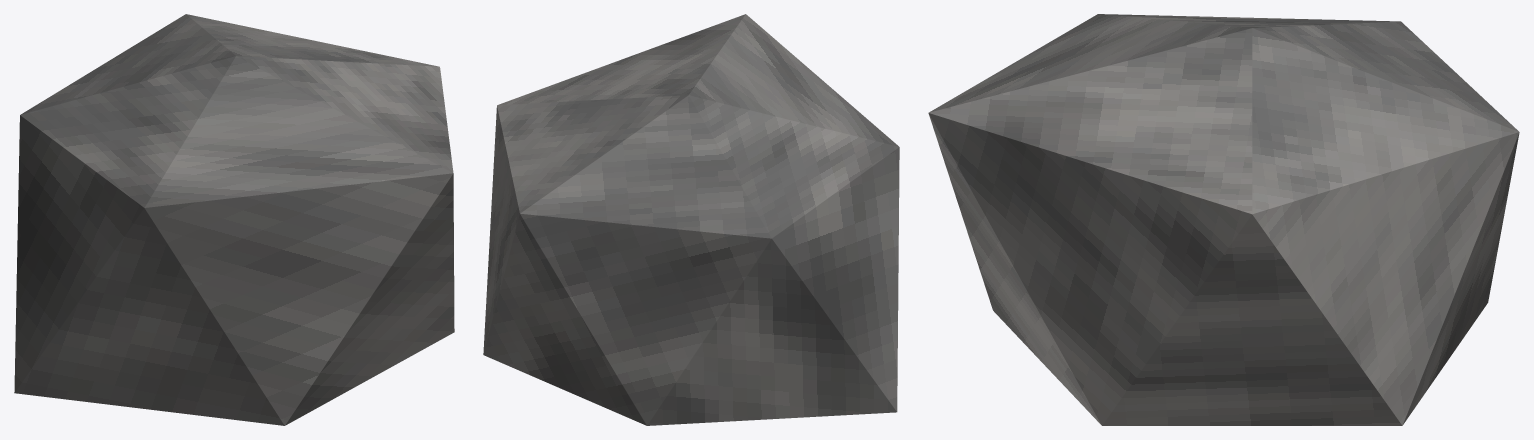
Rendered from rock1.obj.
The picture shows the model from 3 angles, left to right: view 1: azimuth 30°, elevation 25°; view 2: azimuth 150°, elevation 25°; view 3: azimuth 270°, elevation 25°; orthographic projection. The views are drawn at different scales.
Parts seen in each view (by area): view 1: Icosphere; view 2: Icosphere; view 3: Icosphere.
Boxes of the visible parts, x1=… form: Icosphere: x1=14, y1=14, x2=454, y2=425; Icosphere: x1=483, y1=14, x2=899, y2=425; Icosphere: x1=928, y1=14, x2=1519, y2=425.
Bounding box in the file's own units: 1.25 × 0.9401 × 1.29.
